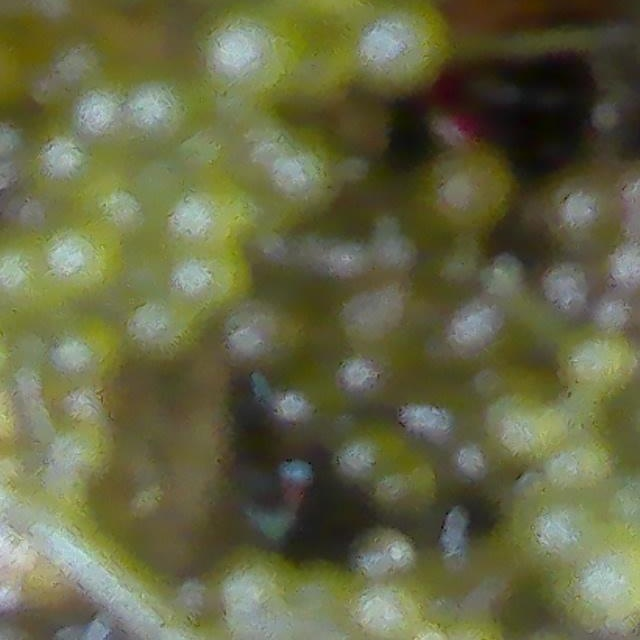SeaGrape: (348, 0, 448, 86), (122, 67, 207, 151), (48, 305, 131, 391), (202, 15, 284, 97), (125, 291, 206, 368), (165, 183, 245, 253), (547, 176, 614, 248), (50, 225, 116, 296), (0, 239, 54, 322), (34, 133, 92, 192)
